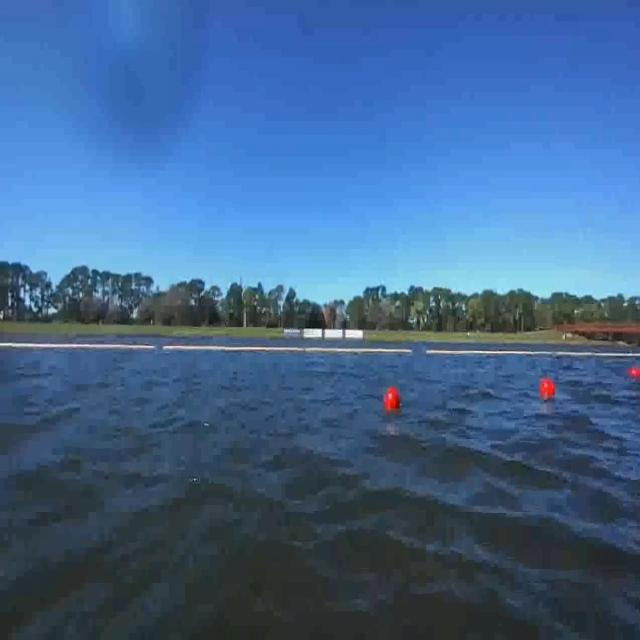red-buoy: (382, 384, 398, 412), (541, 375, 557, 398), (628, 367, 640, 376)
